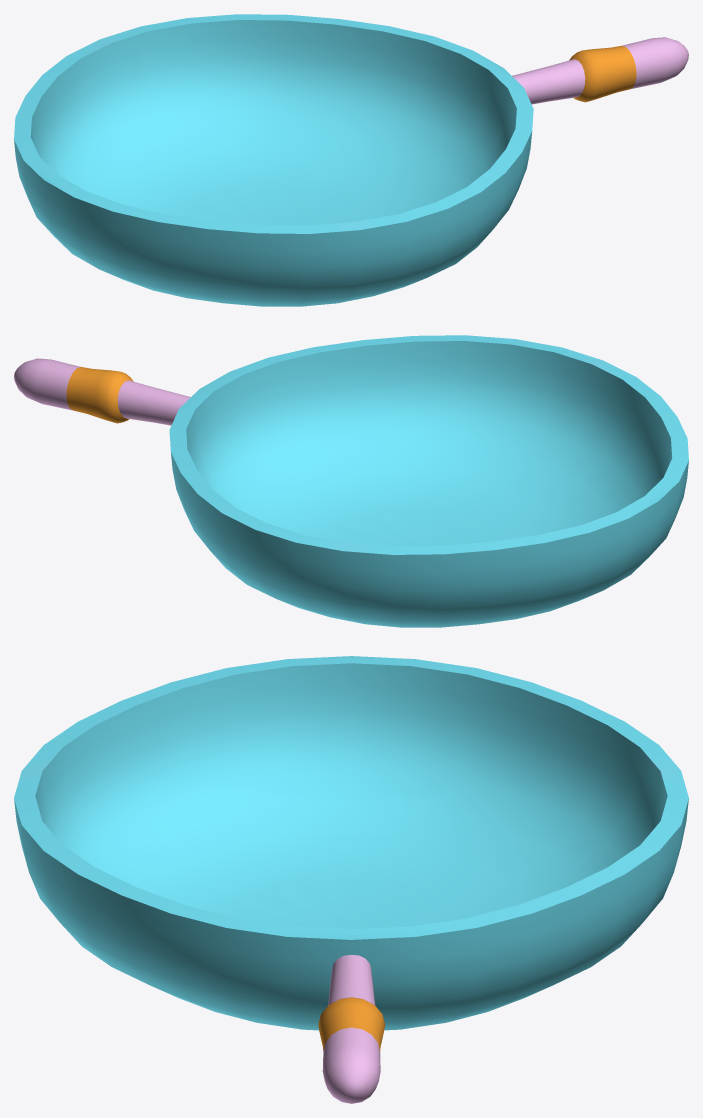
The model's file is Frigideira.fbx.
The picture shows the model from 3 angles, top to bottom: view 1: azimuth 30°, elevation 25°; view 2: azimuth 150°, elevation 25°; view 3: azimuth 270°, elevation 25°; orthographic projection. The views are drawn at different scales.
Visible parts, largest first — view 1: Frigideira; view 2: Frigideira; view 3: Frigideira.
Part boxes in pixels (bbox=[...]): Frigideira: bbox=[14, 14, 688, 306]; Frigideira: bbox=[14, 335, 688, 627]; Frigideira: bbox=[14, 656, 688, 1103].
Bounding box in the file's own units: 88.01 × 16.34 × 63.17.
